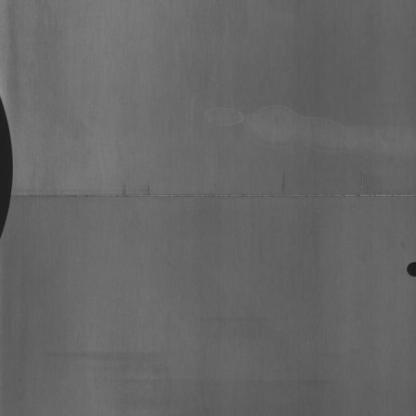crescent_gap: (0, 87, 20, 246)
punching_hole: (400, 257, 416, 283)
welding_line: (8, 184, 416, 218)
